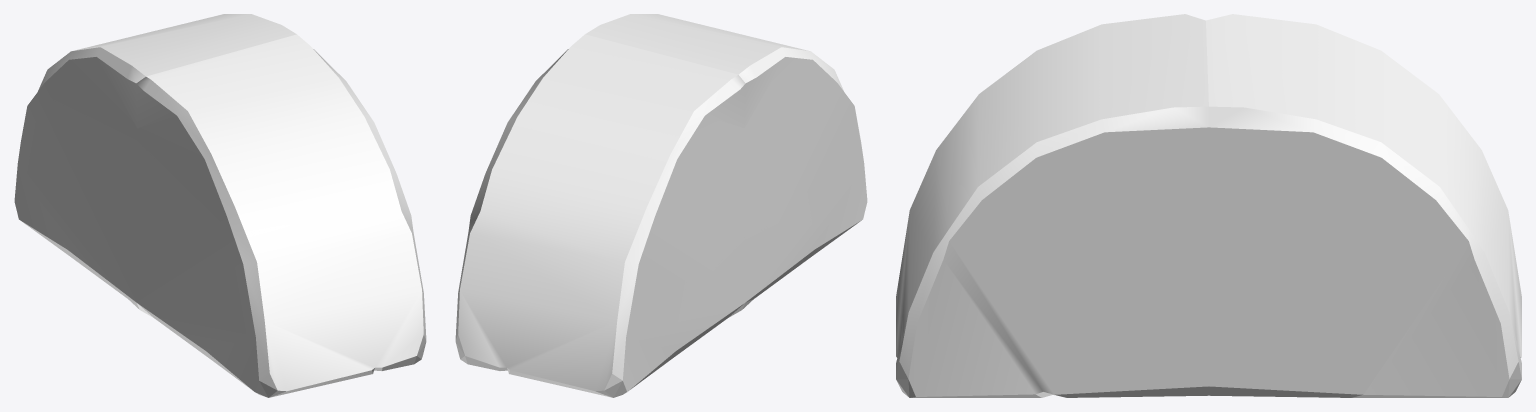
The model's file is Prop_IceSlideConvexNe.glb.
The picture shows the model from 3 angles, left to right: view 1: azimuth 30°, elevation 25°; view 2: azimuth 150°, elevation 25°; view 3: azimuth 270°, elevation 25°; orthographic projection. The views are drawn at different scales.
Parts seen in each view (by area): view 1: Prop_IceSlideConvexNe; view 2: Prop_IceSlideConvexNe; view 3: Prop_IceSlideConvexNe.
Part boxes in pixels (bbox=[...]): Prop_IceSlideConvexNe: bbox=[14, 14, 426, 397]; Prop_IceSlideConvexNe: bbox=[455, 14, 867, 397]; Prop_IceSlideConvexNe: bbox=[896, 14, 1521, 397].
Size of the model in its own units: 0.7841 by 1.04 by 2.03.
Materials: 1 (1 with a texture image).
